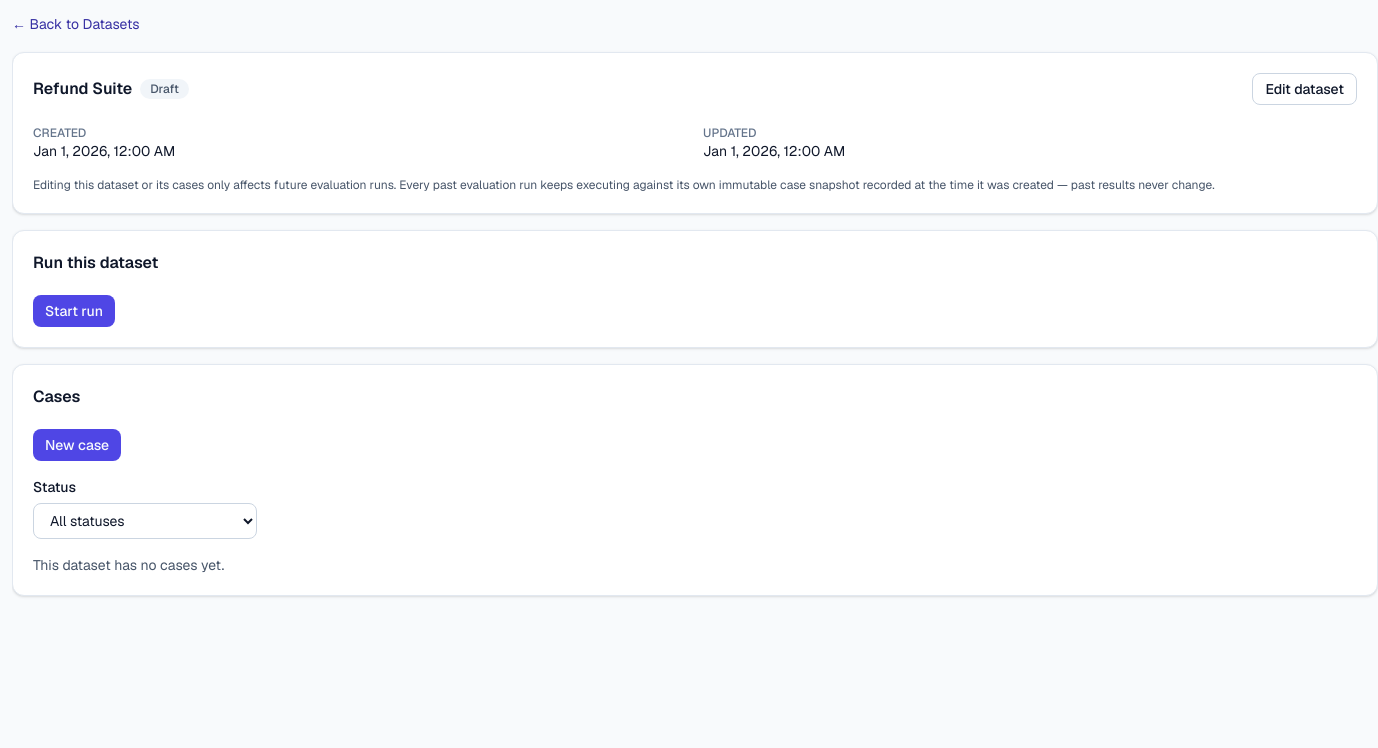
Test: EvaluationDatasetDetailPage › edits the dataset for a role with manage permission and sends only mutable fields
Expected: the heading "Refund Suite" is shown, [33,77,132,101]
Click the button "Edit dataset" at (1305, 89), box [1252,73,1357,105]
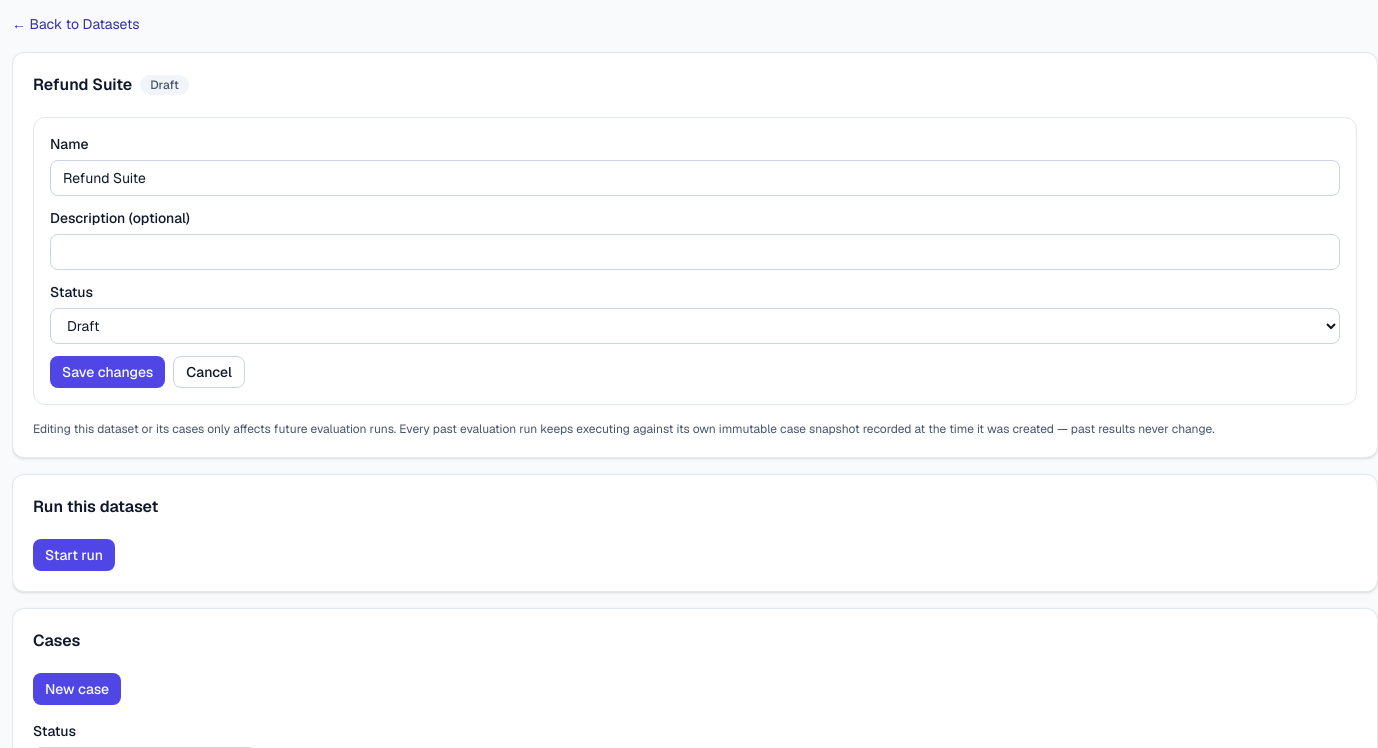
Select "Active" in the dropdown labelled "Status" below "Description (optional)" at (695, 326), box [50,308,1340,344]
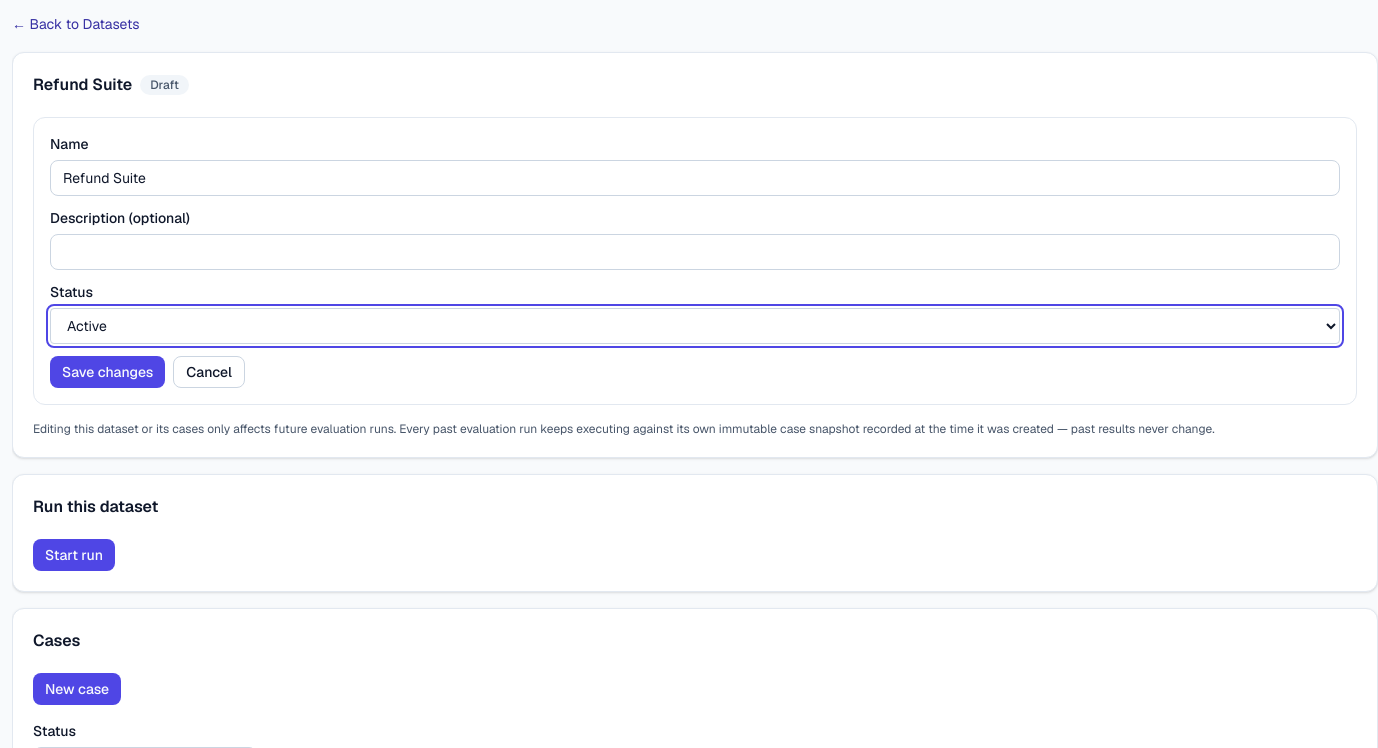
Click the button "Save changes" at (108, 372), box [50,356,165,388]
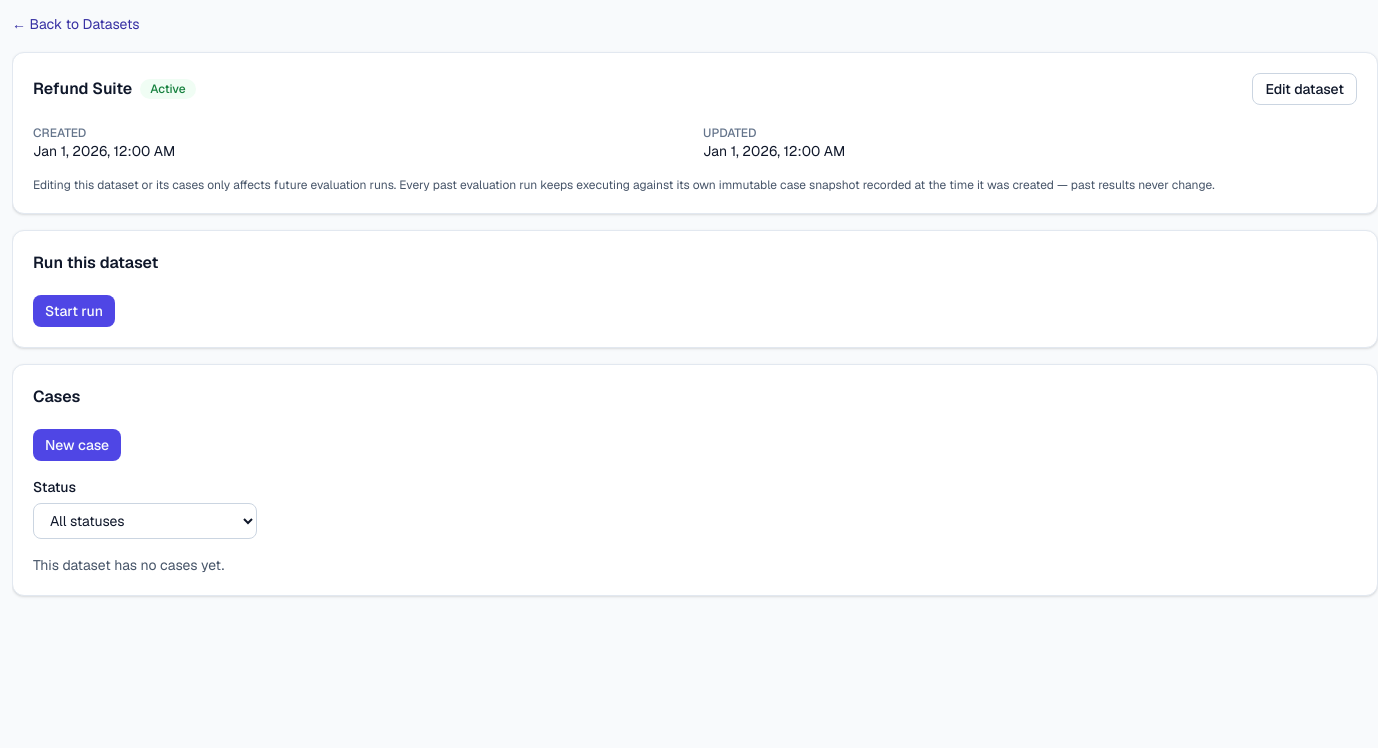
Result: the text "Active" is shown at [140,79,196,99]
